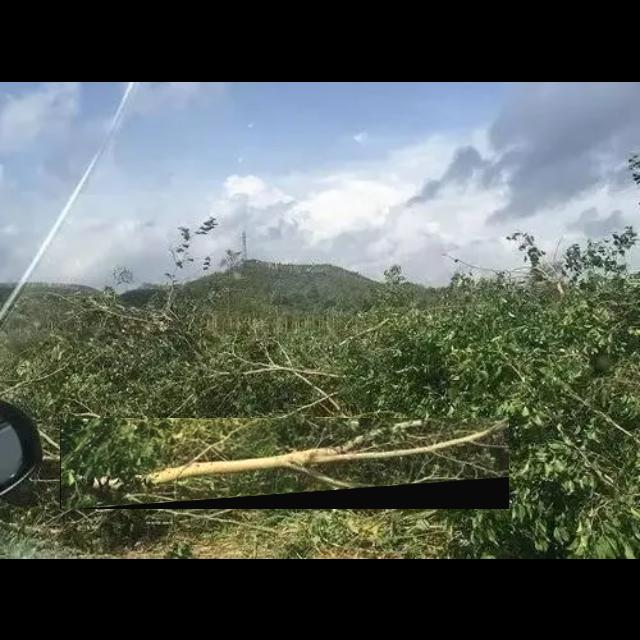Fallen Tree: (60, 418, 510, 510)
